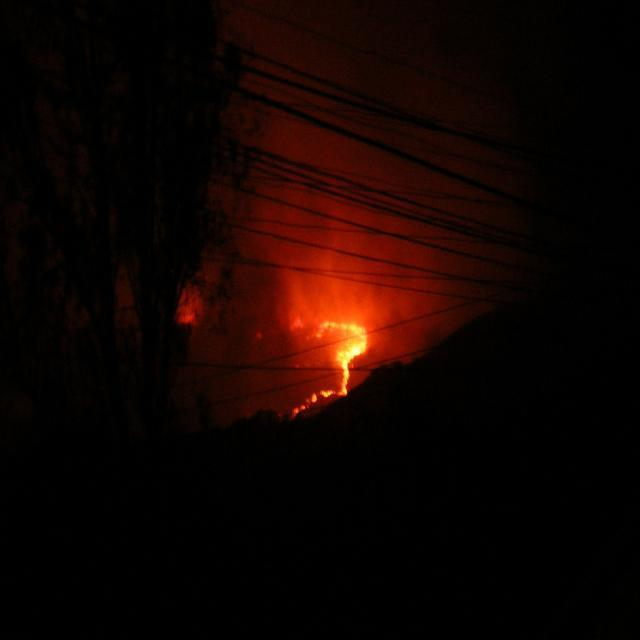Fire: (308, 285, 382, 392)
